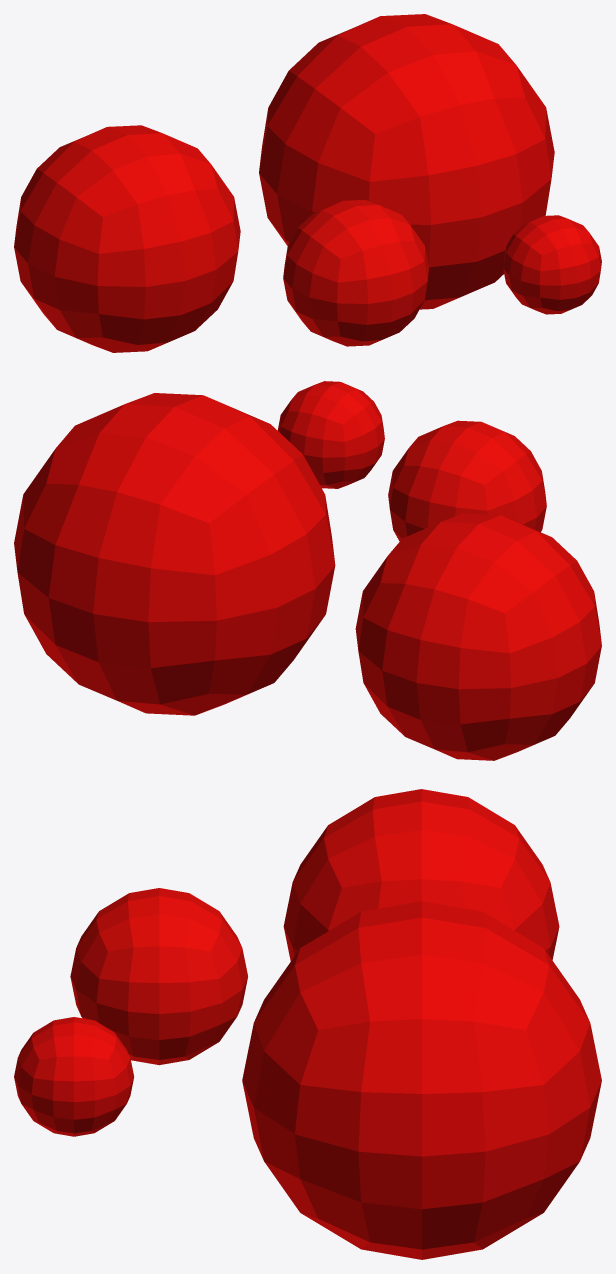
The model's file is RocketPickup.fbx.
The picture shows the model from 3 angles, top to bottom: view 1: azimuth 30°, elevation 25°; view 2: azimuth 150°, elevation 25°; view 3: azimuth 270°, elevation 25°; orthographic projection. The views are drawn at different scales.
Visible parts, largest first — view 1: Roundcube.001, Roundcube.002, Roundcube.003, Roundcube.004; view 2: Roundcube.001, Roundcube.002, Roundcube.003, Roundcube.004; view 3: Roundcube.001, Roundcube.002, Roundcube.003, Roundcube.004.
Part boxes in pixels (left/top/right/bottom): Roundcube.001: left=259, top=14, right=554, bottom=309; Roundcube.002: left=14, top=125, right=240, bottom=352; Roundcube.003: left=283, top=200, right=429, bottom=346; Roundcube.004: left=503, top=215, right=601, bottom=314; Roundcube.001: left=14, top=393, right=335, bottom=715; Roundcube.002: left=355, top=513, right=601, bottom=760; Roundcube.003: left=388, top=420, right=546, bottom=541; Roundcube.004: left=277, top=381, right=384, bottom=488; Roundcube.001: left=242, top=901, right=601, bottom=1259; Roundcube.002: left=283, top=789, right=559, bottom=961; Roundcube.003: left=70, top=888, right=247, bottom=1065; Roundcube.004: left=14, top=1017, right=134, bottom=1136.
Size of the model in its own units: 254 by 129 by 211.
